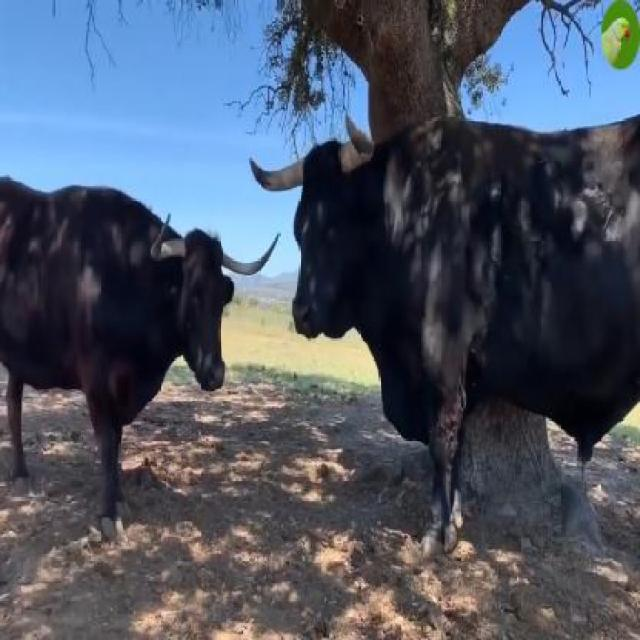Cow: (247, 117, 638, 563), (0, 178, 277, 511)
